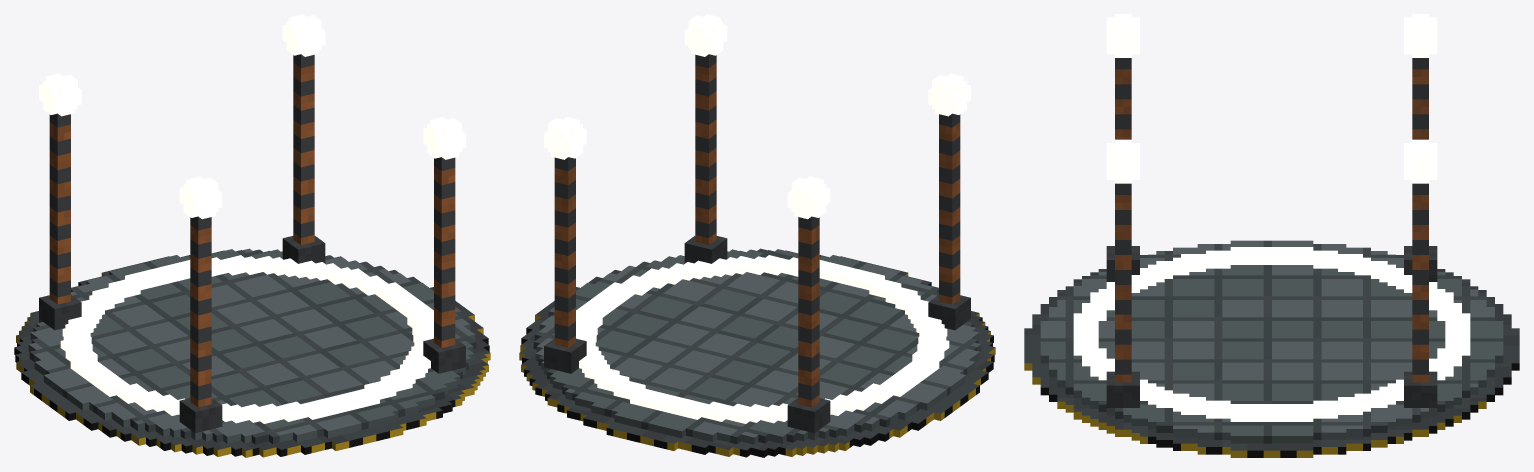
File: teleporteur.glb
3 views of the same model, side by side, from view 1: azimuth 30°, elevation 25°; view 2: azimuth 150°, elevation 25°; view 3: azimuth 270°, elevation 25° (orthographic). The views are drawn at different scales.
Parts seen in each view (by area): view 1: voxel__teleporteur_socle__block, voxel__teleporteur_anneau__ns; view 2: voxel__teleporteur_socle__block, voxel__teleporteur_anneau__ns; view 3: voxel__teleporteur_socle__block, voxel__teleporteur_anneau__ns.
Part boxes in pixels (x1=…): voxel__teleporteur_socle__block: x1=14, y1=54, x2=490, y2=457; voxel__teleporteur_anneau__ns: x1=39, y1=14, x2=465, y2=423; voxel__teleporteur_socle__block: x1=519, y1=54, x2=995, y2=457; voxel__teleporteur_anneau__ns: x1=544, y1=14, x2=970, y2=423; voxel__teleporteur_socle__block: x1=1024, y1=58, x2=1519, y2=457; voxel__teleporteur_anneau__ns: x1=1073, y1=14, x2=1470, y2=421.
Bounding box in the file's own units: 3 × 1.8 × 3.
